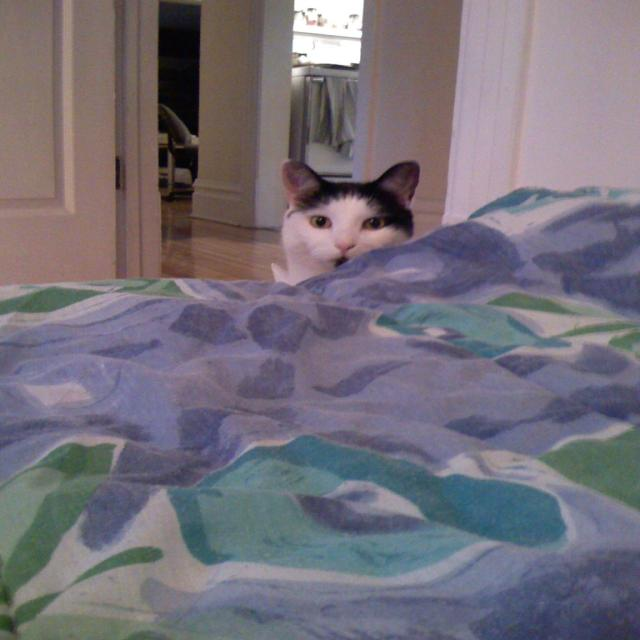Cat: (266, 156, 422, 284)
